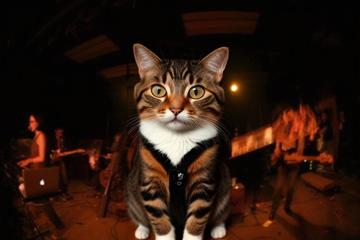cat: (126, 44, 231, 240)
person: (269, 137, 305, 221), (46, 128, 74, 201), (18, 114, 48, 171)
